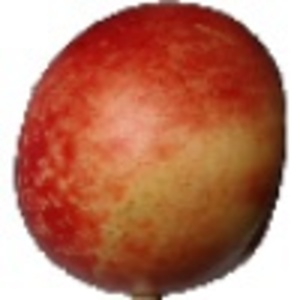nectarina: (1, 1, 289, 300)
